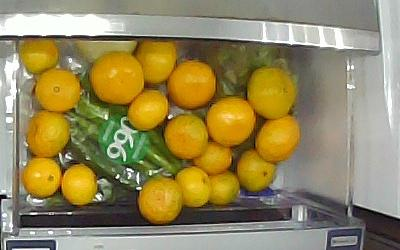tangerine: (89, 51, 143, 104), (248, 67, 299, 119), (253, 115, 302, 164), (208, 95, 255, 146), (168, 61, 217, 107), (138, 176, 183, 224), (164, 113, 209, 160), (34, 70, 82, 113), (126, 88, 170, 132), (27, 112, 69, 158), (237, 148, 278, 192), (136, 41, 175, 86), (18, 39, 61, 75), (62, 164, 98, 206), (24, 158, 62, 197), (176, 167, 211, 208), (192, 142, 233, 174), (207, 171, 241, 205)
